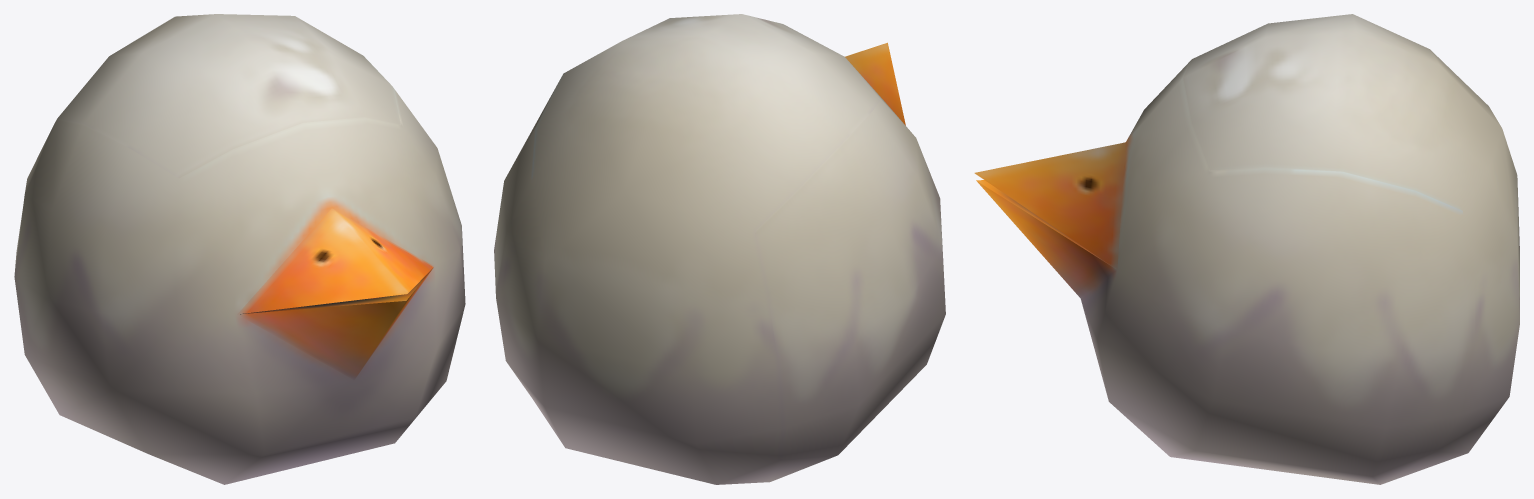
The model's file is head_chicken_mesh.fbx.
The picture shows the model from 3 angles, left to right: view 1: azimuth 30°, elevation 25°; view 2: azimuth 150°, elevation 25°; view 3: azimuth 270°, elevation 25°; orthographic projection.
Parts seen in each view (by area): view 1: head_chicken_mesh; view 2: head_chicken_mesh; view 3: head_chicken_mesh.
Boxes of the visible parts, x1=… form: head_chicken_mesh: x1=14, y1=14, x2=465, y2=484; head_chicken_mesh: x1=494, y1=14, x2=945, y2=484; head_chicken_mesh: x1=974, y1=14, x2=1519, y2=484.
Size of the model in its own units: 1.05 by 1.07 by 1.29.
